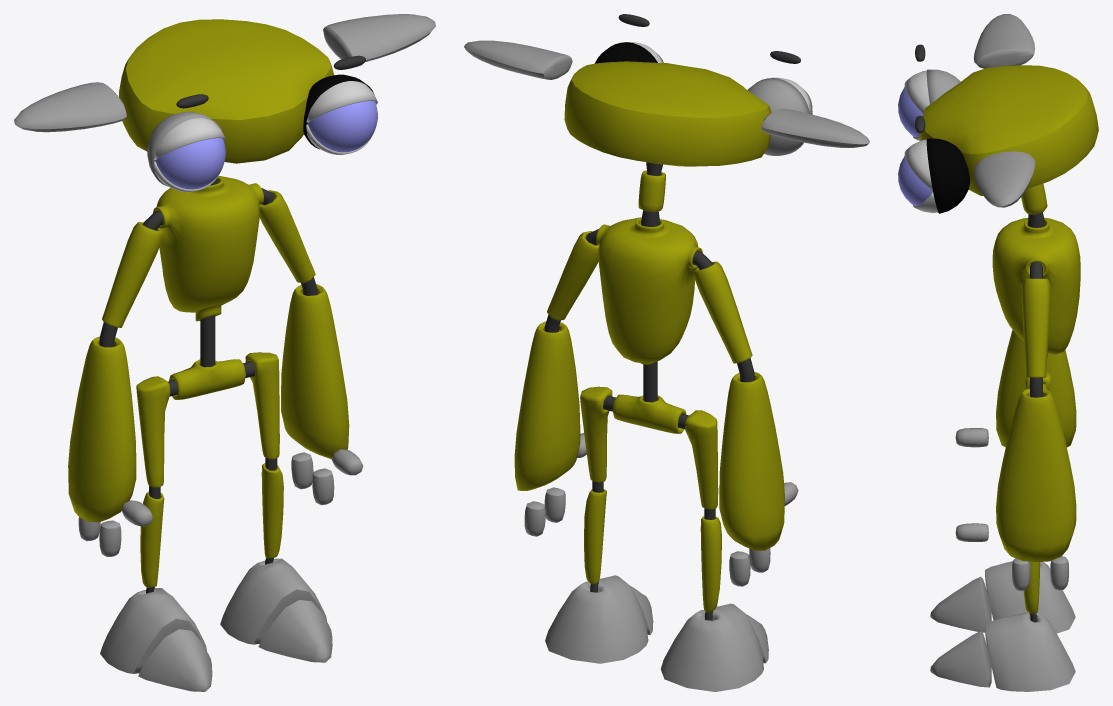
Rendered from push_end2.obj.
The picture shows the model from 3 angles, left to right: view 1: azimuth 30°, elevation 25°; view 2: azimuth 150°, elevation 25°; view 3: azimuth 270°, elevation 25°; orthographic projection. The views are drawn at different scales.
Parts seen in each view (by area): view 1: Mesh polySurface50, Mesh polySurface41, Mesh polySurface37, Mesh polySurface18, Mesh polySurface48, Mesh polySurface10, Mesh polySurface26, Mesh polySurface47, Mesh polySurface8, Mesh polySurface24, Mesh polySurface44, Mesh polySurface38 (+15 smaller); view 2: Mesh polySurface41, Mesh polySurface48, Mesh polySurface37, Mesh polySurface18, Mesh polySurface50, Mesh polySurface26, Mesh polySurface10, Mesh polySurface38, Mesh polySurface28, Mesh polySurface12, Mesh polySurface47, Mesh polySurface51 (+7 smaller); view 3: Mesh polySurface18, Mesh polySurface50, Mesh polySurface41, Mesh polySurface10, Mesh polySurface48, Mesh polySurface37, Mesh polySurface26, Mesh polySurface51, Mesh polySurface44, Mesh polySurface4, Mesh polySurface8, Mesh polySurface24 (+13 smaller).
Boxes of the visible parts, left/top/right/bottom form: Mesh polySurface50: left=126, top=19, right=330, bottom=119; Mesh polySurface41: left=153, top=176, right=263, bottom=321; Mesh polySurface37: left=68, top=336, right=136, bottom=522; Mesh polySurface18: left=281, top=284, right=349, bottom=459; Mesh polySurface48: left=119, top=58, right=333, bottom=163; Mesh polySurface10: left=220, top=558, right=326, bottom=644; Mesh polySurface26: left=100, top=588, right=206, bottom=673; Mesh polySurface47: left=14, top=82, right=126, bottom=129; Mesh polySurface8: left=258, top=600, right=332, bottom=662; Mesh polySurface24: left=138, top=629, right=212, bottom=691; Mesh polySurface44: left=325, top=14, right=435, bottom=59; Mesh polySurface38: left=102, top=222, right=162, bottom=327; Mesh polySurface41: left=596, top=217, right=702, bottom=364; Mesh polySurface48: left=564, top=75, right=771, bottom=166; Mesh polySurface37: left=719, top=372, right=784, bottom=550; Mesh polySurface18: left=514, top=321, right=580, bottom=490; Mesh polySurface50: left=571, top=61, right=768, bottom=117; Mesh polySurface26: left=661, top=603, right=763, bottom=691; Mesh polySurface10: left=545, top=575, right=648, bottom=663; Mesh polySurface38: left=694, top=261, right=752, bottom=363; Mesh polySurface28: left=685, top=410, right=718, bottom=509; Mesh polySurface12: left=580, top=386, right=612, bottom=482; Mesh polySurface47: left=761, top=108, right=869, bottom=144; Mesh polySurface51: left=547, top=231, right=599, bottom=320; Mesh polySurface18: left=996, top=388, right=1076, bottom=562; Mesh polySurface50: left=922, top=65, right=1087, bottom=154; Mesh polySurface41: left=992, top=217, right=1080, bottom=356; Mesh polySurface10: left=985, top=612, right=1075, bottom=691; Mesh polySurface48: left=919, top=87, right=1098, bottom=195; Mesh polySurface37: left=996, top=329, right=1076, bottom=447; Mesh polySurface26: left=985, top=561, right=1075, bottom=633; Mesh polySurface51: left=1021, top=278, right=1050, bottom=377; Mesh polySurface44: left=973, top=151, right=1035, bottom=205; Mesh polySurface4: left=926, top=138, right=970, bottom=213; Mesh polySurface8: left=930, top=631, right=989, bottom=687; Mesh polySurface24: left=930, top=577, right=987, bottom=632.
Size of the model in its own units: 10.05 by 13.83 by 4.48.
